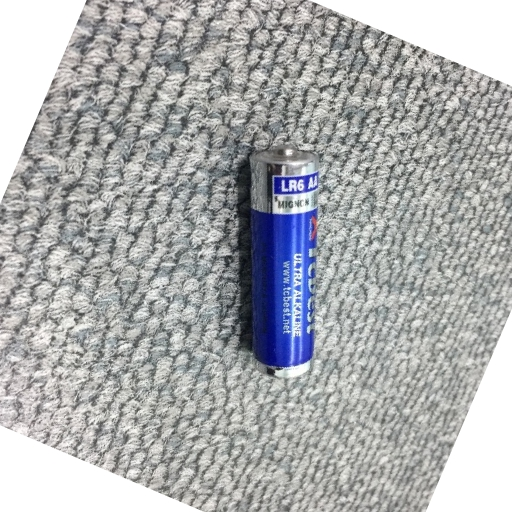Battery_0: (229, 125, 346, 395)
